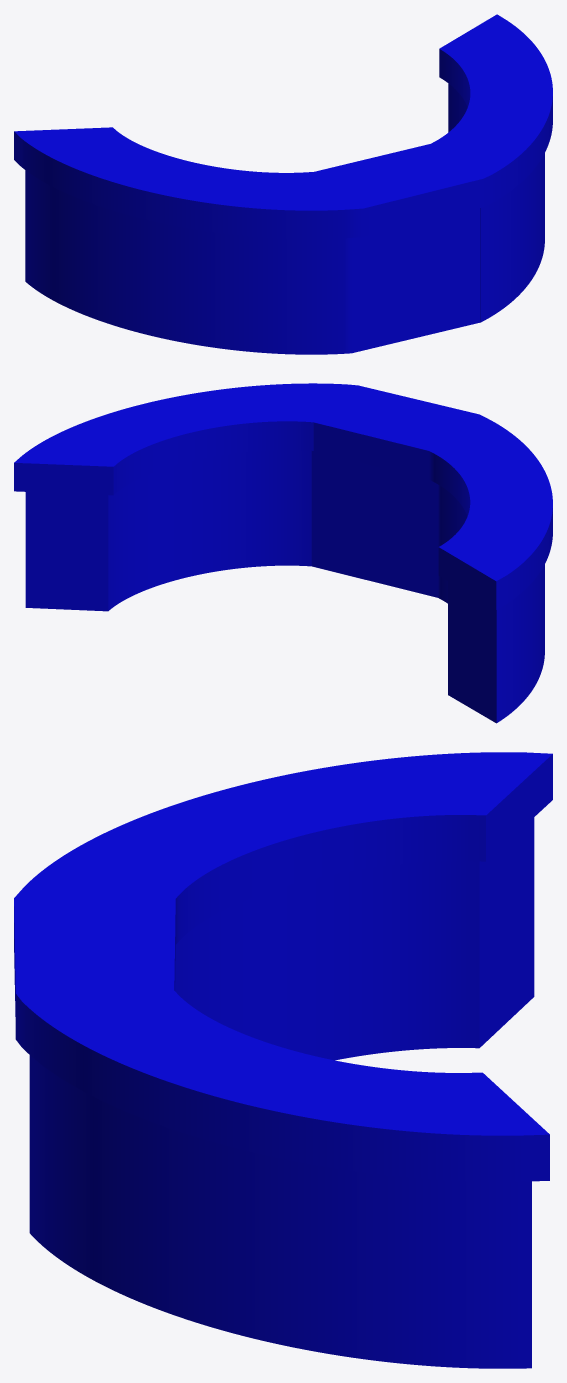
File: ZG_Proxy_Counter.fbx
The picture shows the model from 3 angles, top to bottom: view 1: azimuth 30°, elevation 25°; view 2: azimuth 150°, elevation 25°; view 3: azimuth 270°, elevation 25°; orthographic projection. The views are drawn at different scales.
Visible parts, largest first — view 1: pCube108; view 2: pCube108; view 3: pCube108.
Part boxes in pixels (x1,y1,x2,y2): pCube108: (14,14,552,354); pCube108: (14,383,552,723); pCube108: (14,752,552,1368).
Bounding box in the file's own units: 7743 × 2246 × 4598.
